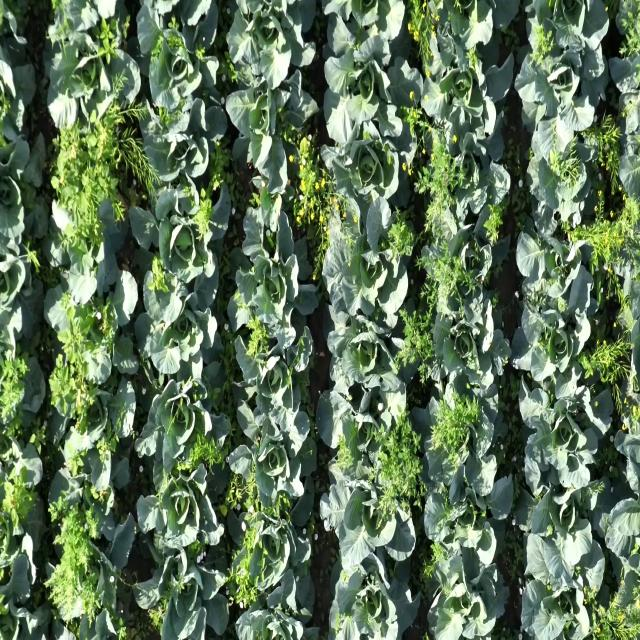holes: (128, 172, 232, 312), (517, 366, 614, 497), (325, 298, 412, 430), (613, 89, 640, 194)
